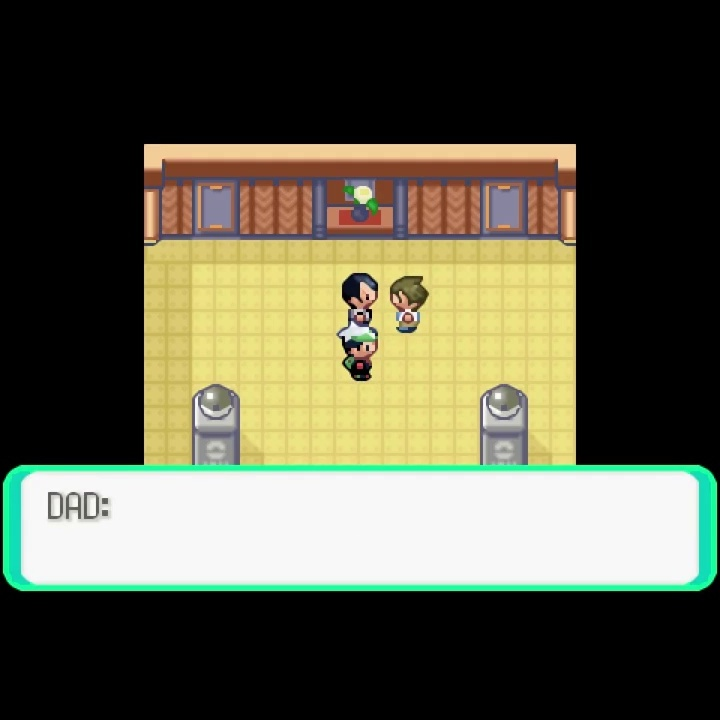agent: (335, 321, 382, 386)
npc: (386, 274, 431, 337), (340, 271, 381, 323)
